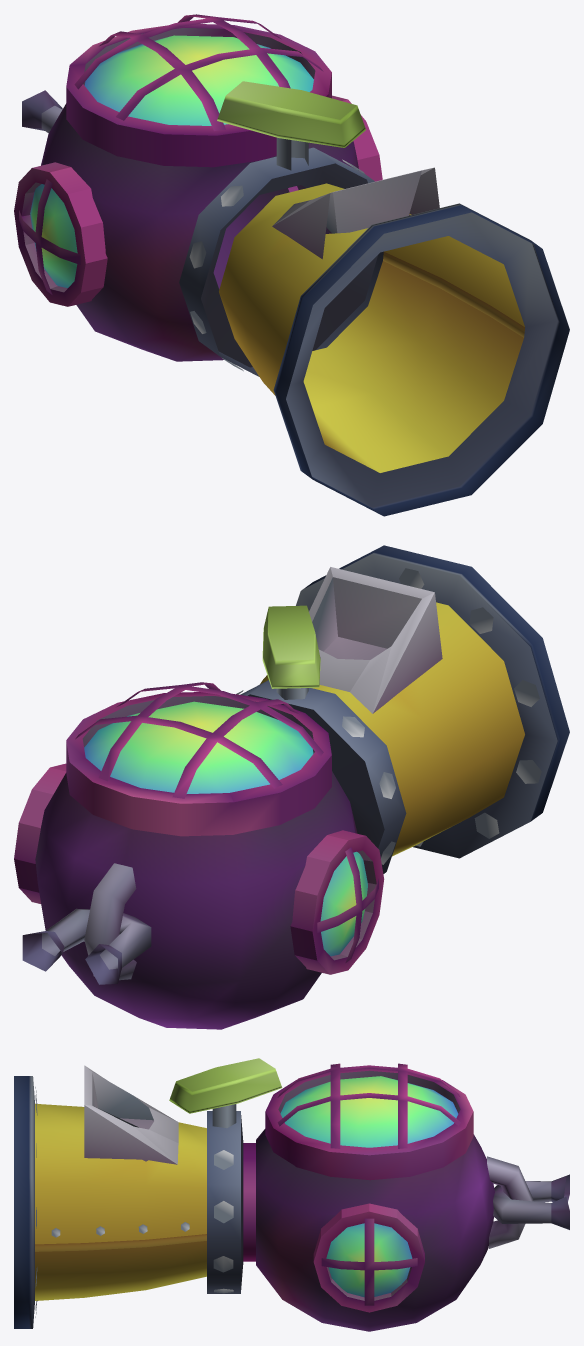
File: DivingMarket.fbx
The picture shows the model from 3 angles, top to bottom: view 1: azimuth 30°, elevation 25°; view 2: azimuth 150°, elevation 25°; view 3: azimuth 270°, elevation 25°; orthographic projection. The views are drawn at different scales.
Parts seen in each view (by area): view 1: DivingMarketDispenser, DivingMarketGreenGlass; view 2: DivingMarketDispenser, DivingMarketGreenGlass; view 3: DivingMarketDispenser, DivingMarketGreenGlass.
Part boxes in pixels (x1,y1,x2,y2): DivingMarketDispenser: (14,14,569,516); DivingMarketGreenGlass: (30,35,313,288); DivingMarketDispenser: (14,545,569,1029); DivingMarketGreenGlass: (84,701,367,956); DivingMarketDispenser: (14,1058,569,1331); DivingMarketGreenGlass: (280,1076,458,1297).
Size of the model in its own units: 101 by 94.76 by 196.
